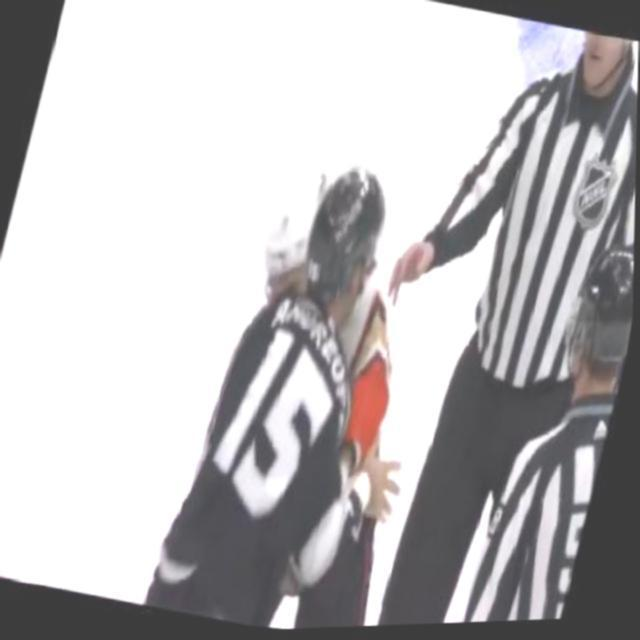fight: (156, 122, 488, 635)
